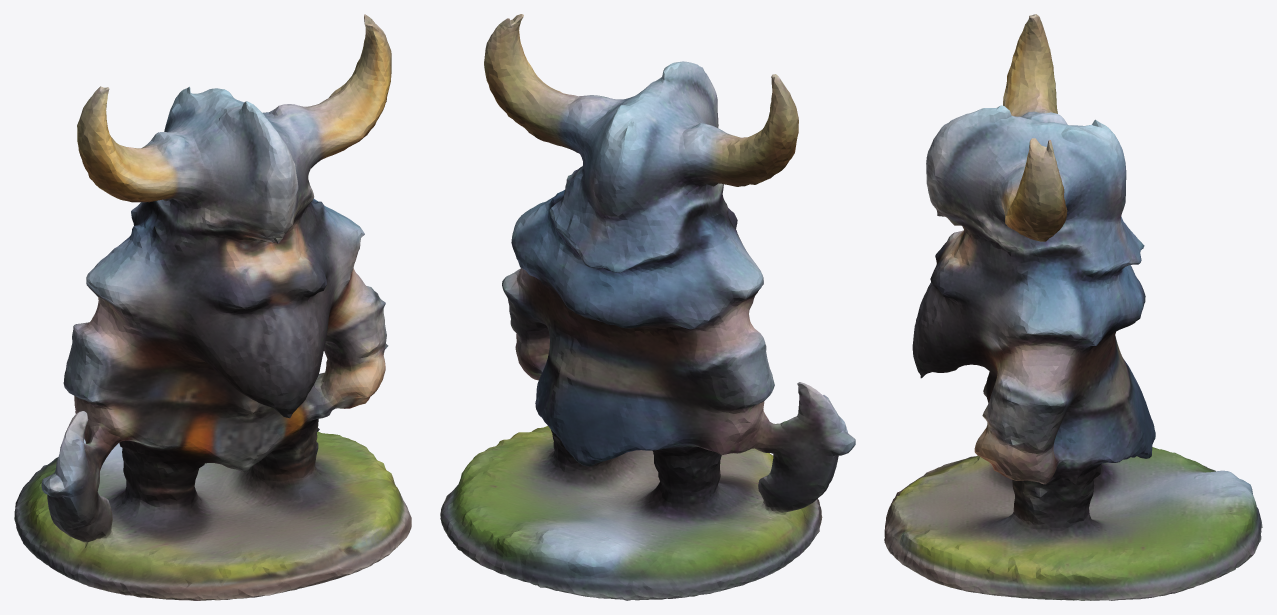
Rendered from dwarf_rgba.glb.
3 views of the same model, side by side, from view 1: azimuth 30°, elevation 25°; view 2: azimuth 150°, elevation 25°; view 3: azimuth 270°, elevation 25° (orthographic). The views are drawn at different scales.
Bounding box in the file's own units: 0.7469 × 0.9651 × 0.709.
Materials: 1 (1 with a texture image).
